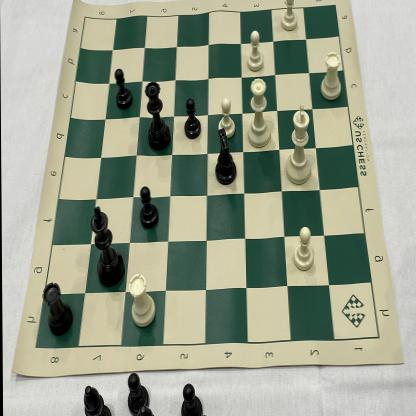black-king: (89, 200, 126, 292)
black-knight: (210, 128, 242, 188)
black-pawn: (137, 182, 159, 232), (182, 96, 204, 142), (113, 65, 133, 111)
black-queen: (143, 78, 173, 152)
black-rook: (44, 280, 74, 338)
white-king: (283, 100, 314, 188)
white-pawn: (291, 222, 318, 276), (216, 94, 240, 142), (245, 27, 267, 73), (280, 0, 301, 36)
white-queen: (245, 74, 273, 152)
white-rook: (126, 268, 158, 334), (318, 49, 346, 104)
